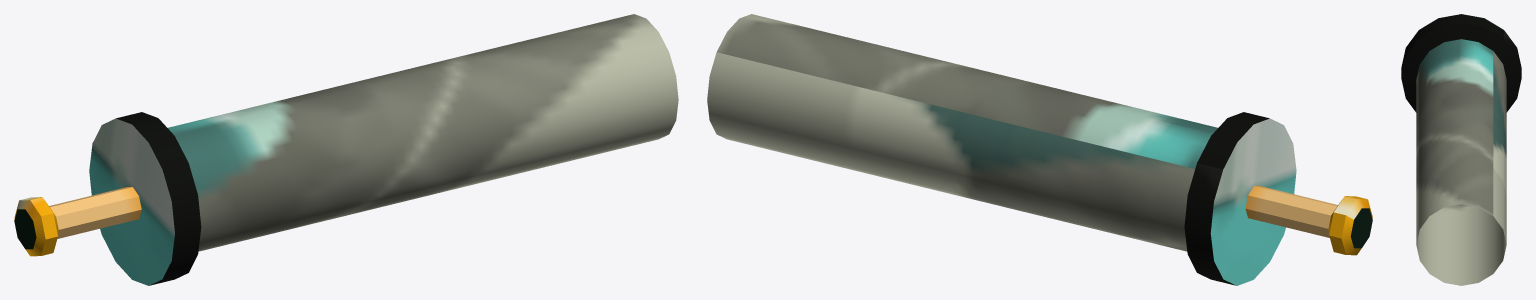
File: WaterWheelBase_low.fbx
3 views of the same model, side by side, from view 1: azimuth 30°, elevation 25°; view 2: azimuth 150°, elevation 25°; view 3: azimuth 270°, elevation 25° (orthographic). The views are drawn at different scales.
Parts seen in each view (by area): view 1: WaterWheelBase_low; view 2: WaterWheelBase_low; view 3: WaterWheelBase_low.
Boxes of the visible parts, x1,y1,x2,y2 form: WaterWheelBase_low: (14,14,678,285); WaterWheelBase_low: (707,14,1372,285); WaterWheelBase_low: (1401,14,1521,285).
Bounding box in the file's own units: 3.19 × 0.7627 × 0.7636.
